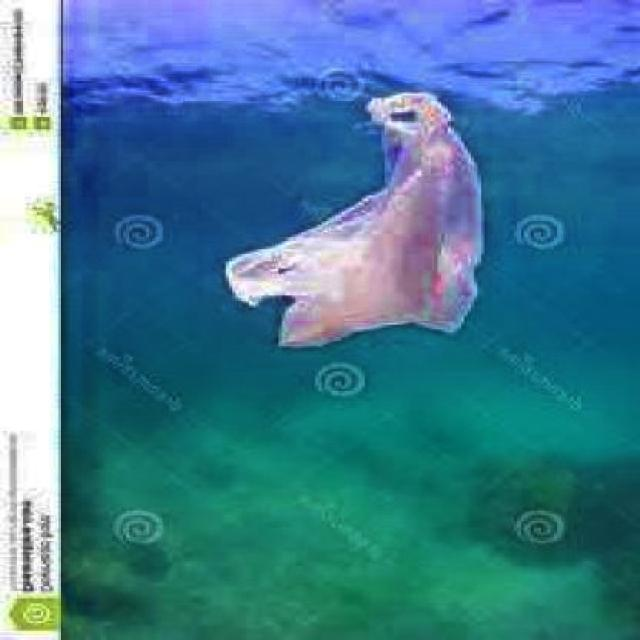pbag: (222, 88, 484, 349)
